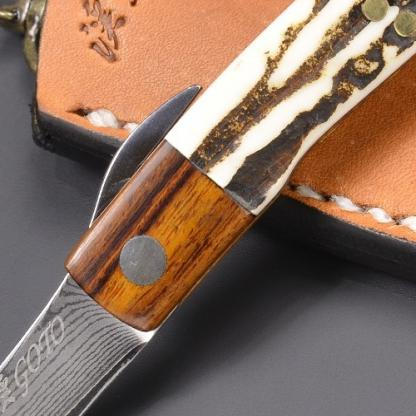knife: (0, 213, 169, 415)
